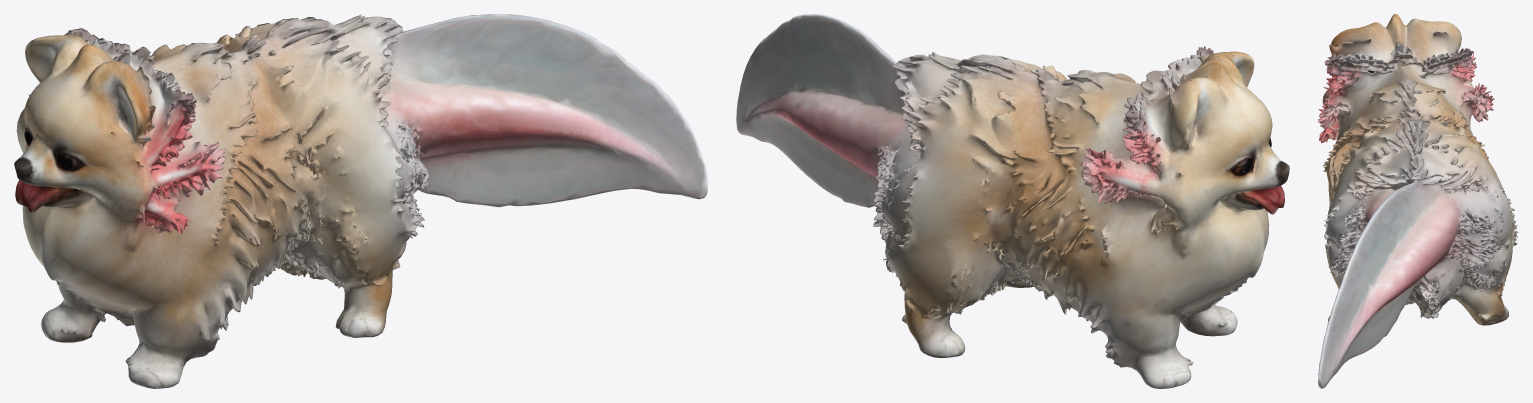
The model's file is pom-axolotl.glb.
3 views of the same model, side by side, from view 1: azimuth 30°, elevation 25°; view 2: azimuth 150°, elevation 25°; view 3: azimuth 270°, elevation 25° (orthographic). The views are drawn at different scales.
Visible parts, largest first — view 1: Mesh_0; view 2: Mesh_0; view 3: Mesh_0.
Part boxes in pixels (x1,y1,x2,y2): Mesh_0: (14, 14, 707, 388); Mesh_0: (736, 14, 1289, 388); Mesh_0: (1318, 14, 1518, 388).
Size of the model in its own units: 0.6301 by 0.3 by 0.2407.
Materials: 1 (1 with a texture image).
